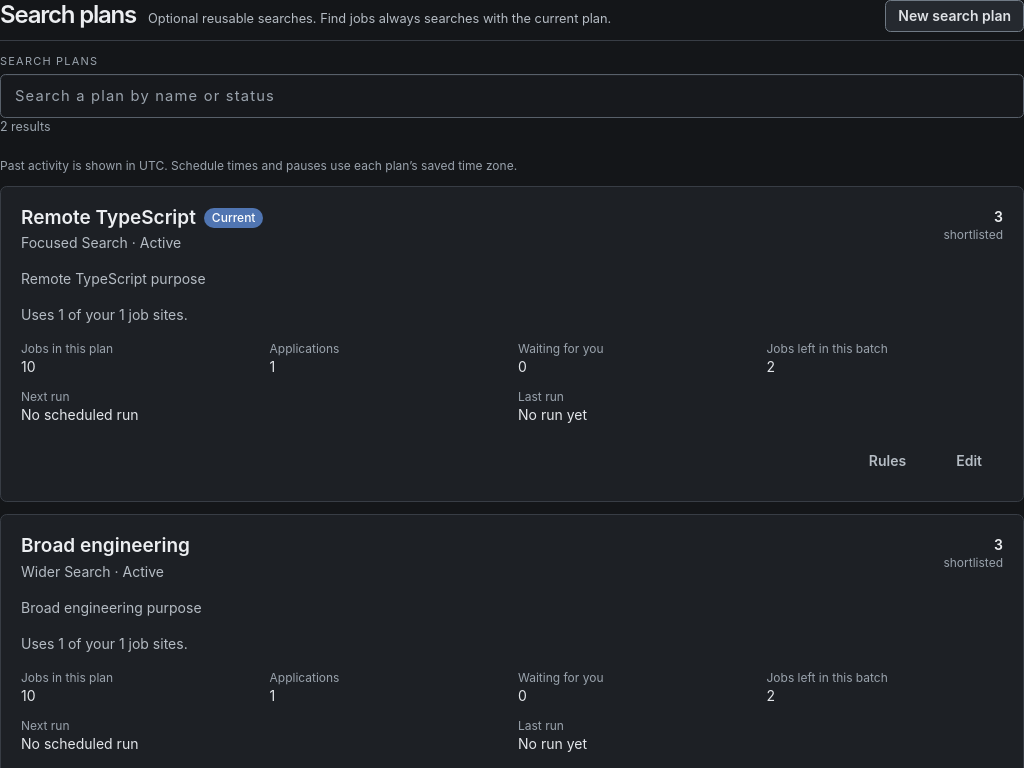
Test case: CampaignsScreen › searches plans without changing the active plan
Type "broad" into the search field labelled "Search plans".
click(512, 96); type("broad")  # box [0,74,1023,118]
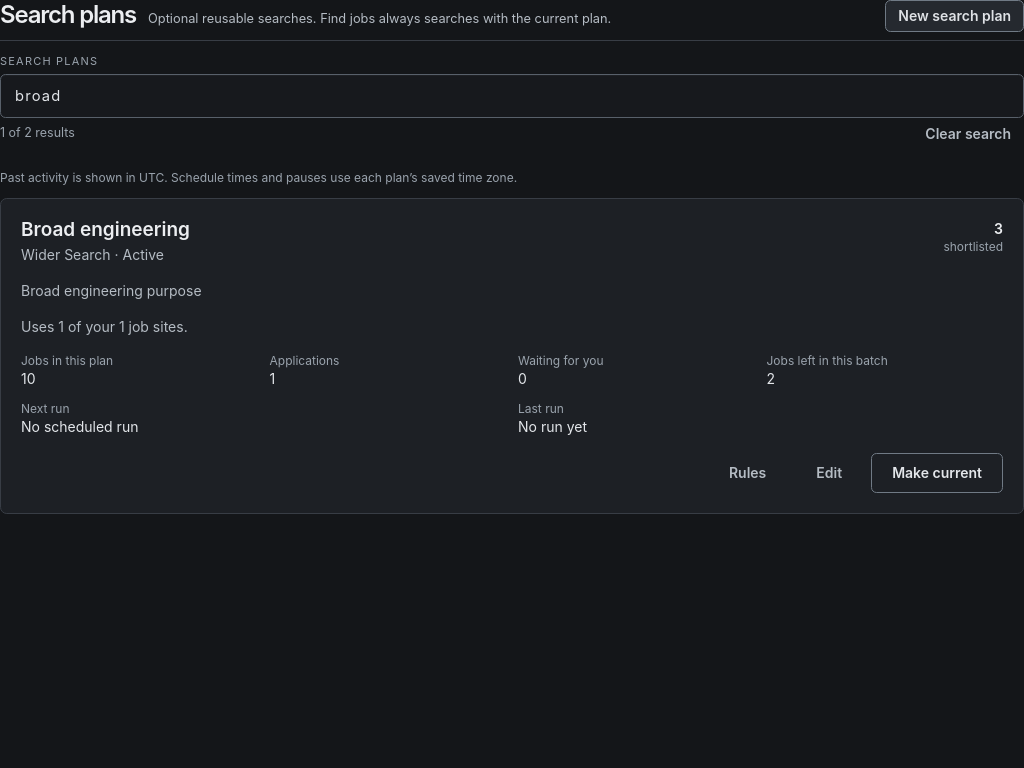
Expected: the heading "Broad engineering" is shown, [21,218,190,241]
Expected: the heading "Remote TypeScript" is gone
